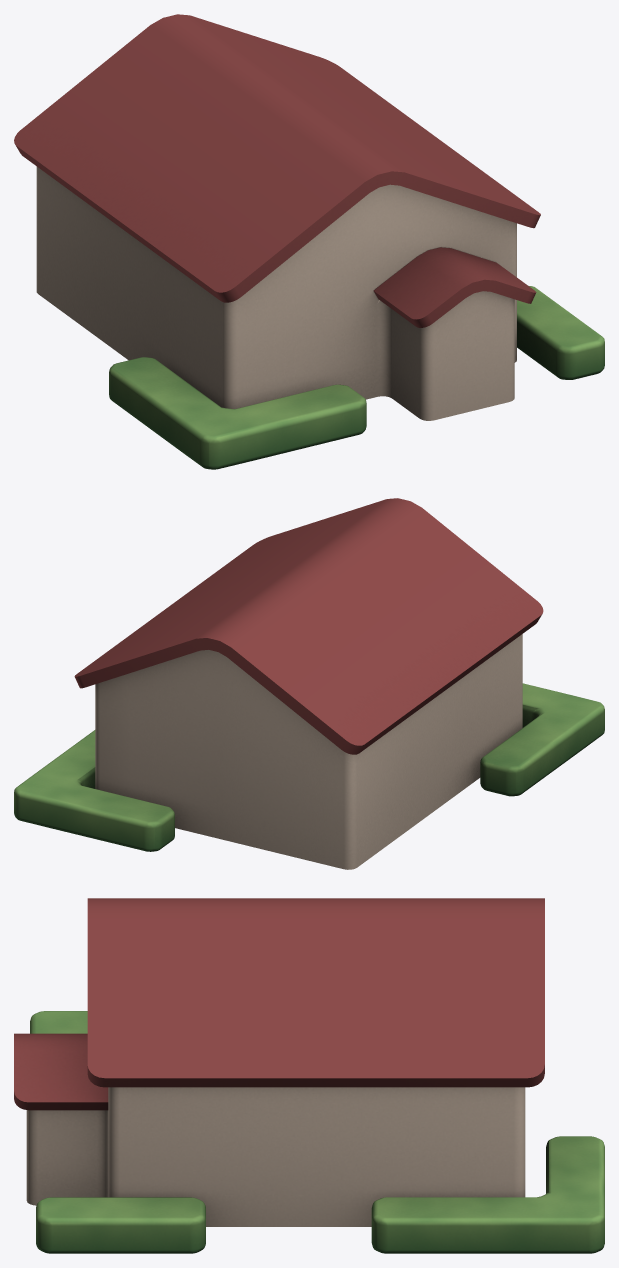
3 renders of one model, top to bottom at view 1: azimuth 30°, elevation 25°; view 2: azimuth 150°, elevation 25°; view 3: azimuth 270°, elevation 25°, orthographic. The views are drawn at different scales.
Parts seen in each view (by area): view 1: Plane.008; view 2: Plane.008; view 3: Plane.008.
Part boxes in pixels (x1,y1,x2,y2): Plane.008: [14, 14, 604, 469]; Plane.008: [14, 498, 604, 869]; Plane.008: [14, 898, 604, 1253].
Size of the model in its own units: 13.43 by 7.31 by 15.87.
1 material, 1 textured.
